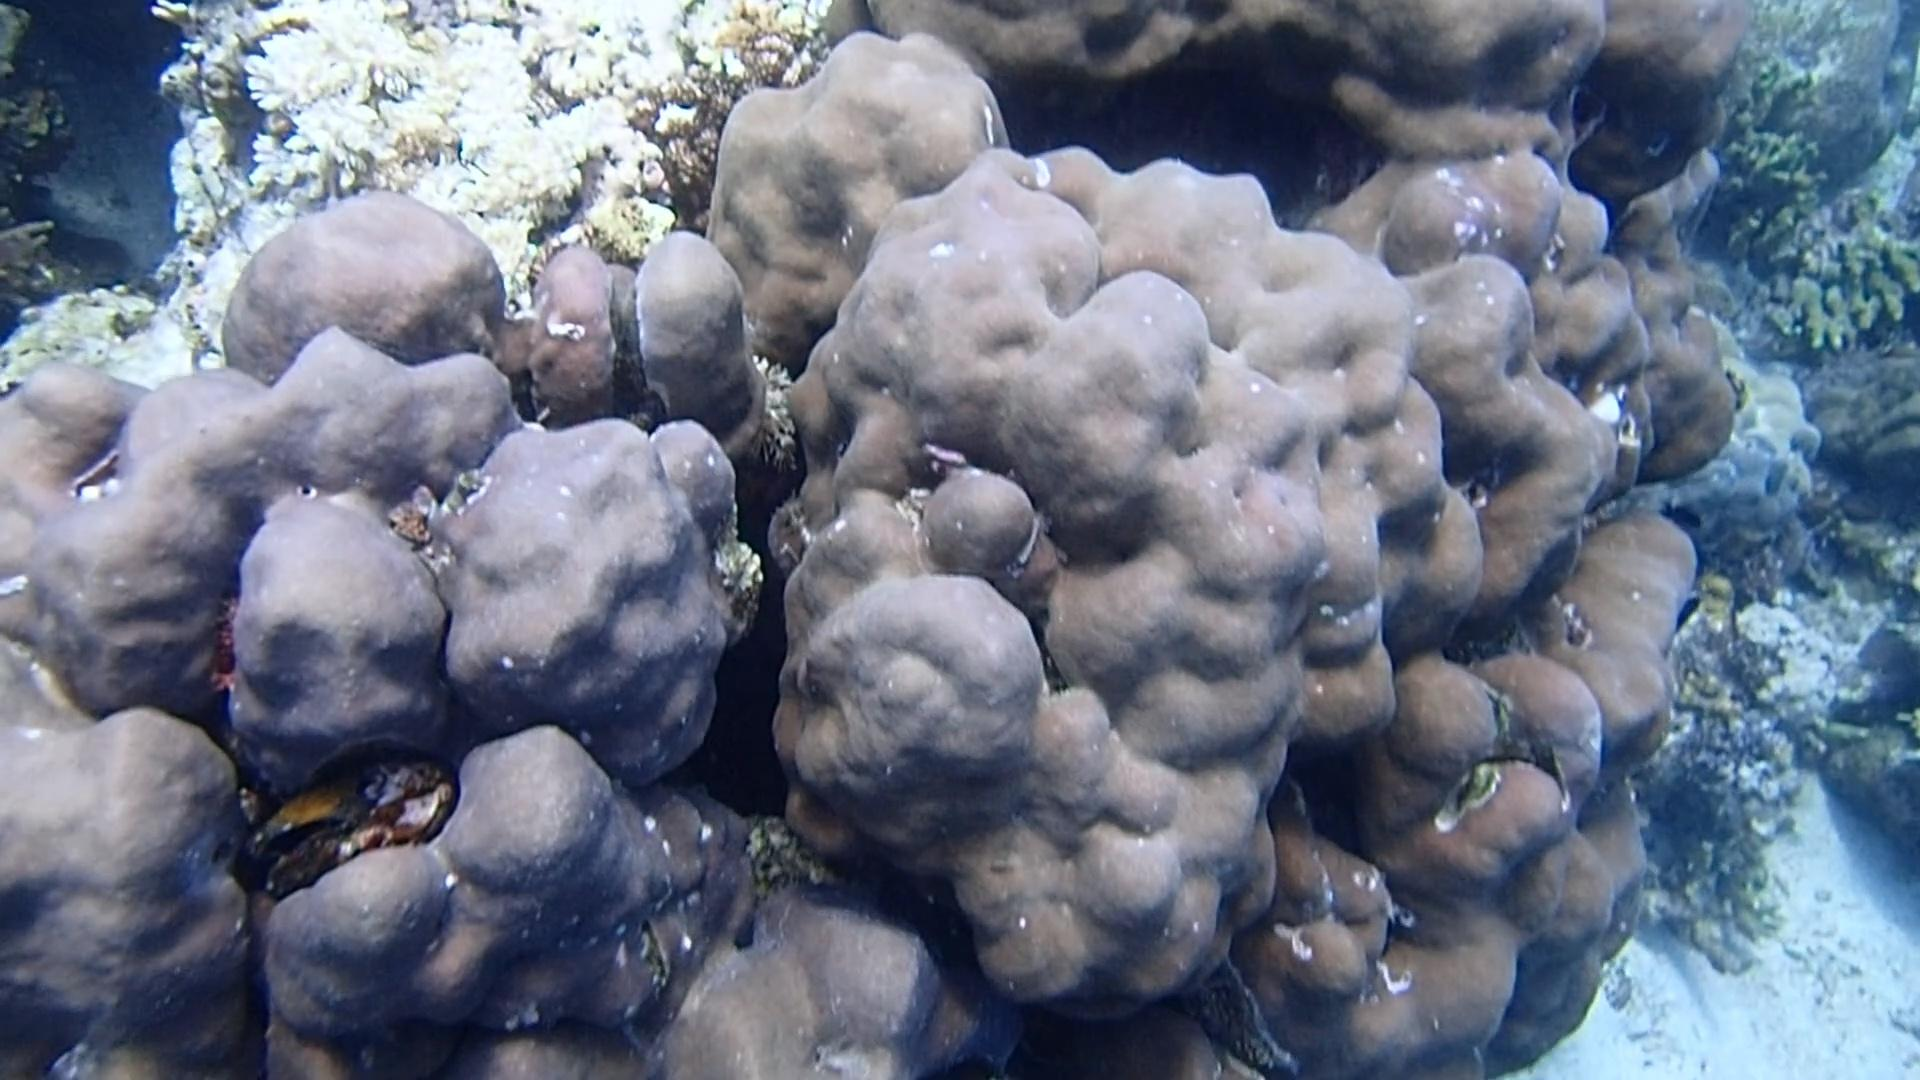Dark Fish: (1646, 487, 1721, 539)
